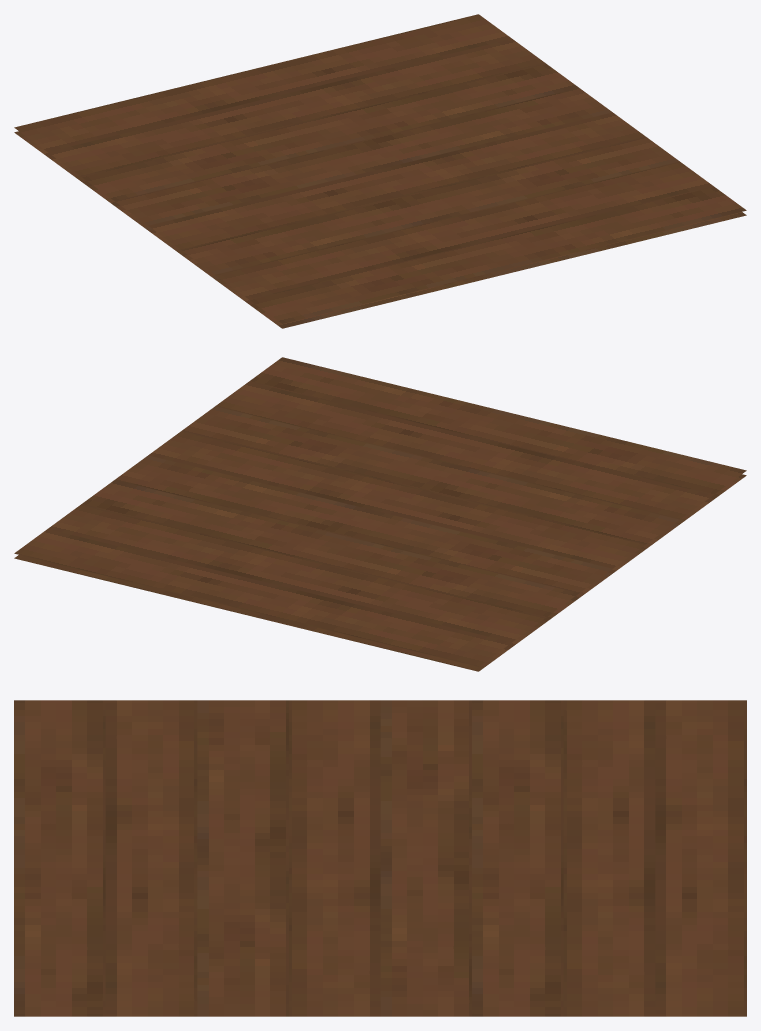
Rendered from floor-D9kYHuIb.glb.
3 renders of one model, top to bottom at view 1: azimuth 30°, elevation 25°; view 2: azimuth 150°, elevation 25°; view 3: azimuth 270°, elevation 25°, orthographic. The views are drawn at different scales.
Bounding box in the file's own units: 2 × 0.02 × 2.
Materials: 1 (1 with a texture image).
